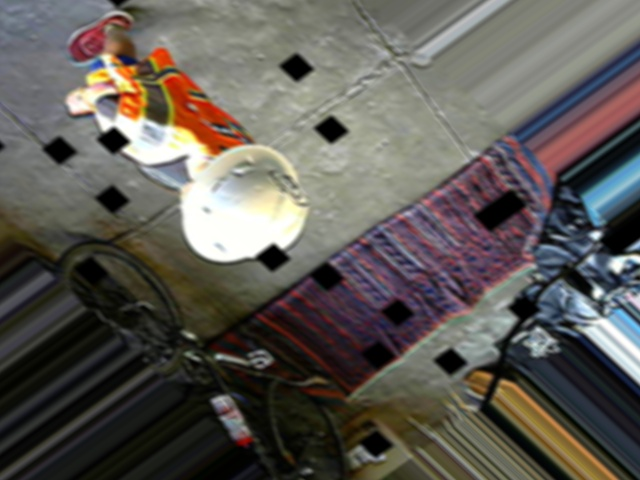eight: (264, 167, 315, 212)
